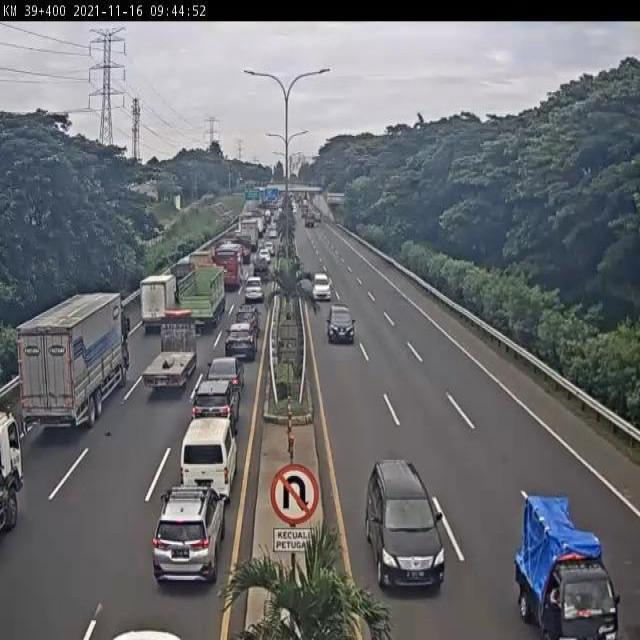car: (517, 490, 621, 640), (365, 456, 446, 592), (150, 490, 222, 586), (188, 383, 236, 447), (205, 355, 246, 396), (223, 327, 255, 365), (326, 303, 356, 343), (236, 303, 263, 335), (241, 276, 266, 304), (312, 271, 330, 297)
truck: (17, 292, 131, 436), (183, 419, 238, 500), (139, 320, 197, 395), (176, 265, 228, 332), (139, 276, 178, 339), (207, 247, 244, 296), (182, 253, 211, 296)
